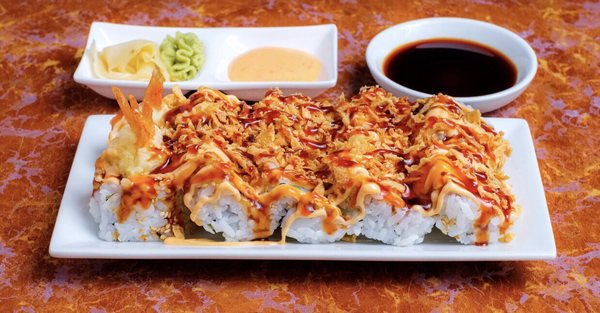sushi: (365, 16, 537, 114)
